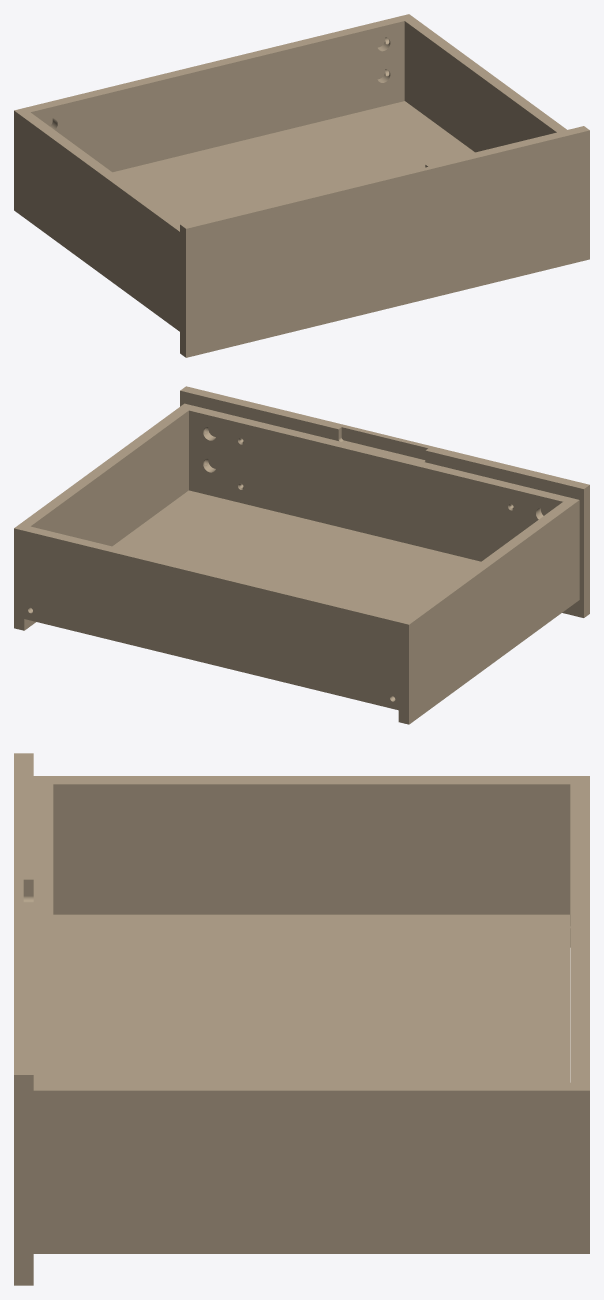
The model's file is assembled.glb.
3 renders of one model, top to bottom at view 1: azimuth 30°, elevation 25°; view 2: azimuth 150°, elevation 25°; view 3: azimuth 270°, elevation 25°, orthographic. The views are drawn at different scales.
Parts seen in each view (by area): view 1: face, rear, bottom, left, right; view 2: rear, front, bottom, left, right, face; view 3: right, bottom, left, face, front, rear.
Boxes of the visible parts, x1,y1,x2,y2 form: face: [180, 126, 589, 357]; rear: [25, 16, 404, 172]; bottom: [113, 101, 474, 223]; left: [14, 108, 182, 331]; right: [399, 14, 566, 152]; rear: [24, 526, 404, 710]; front: [189, 406, 568, 561]; bottom: [112, 490, 480, 617]; left: [398, 497, 579, 724]; right: [14, 403, 194, 630]; face: [180, 386, 589, 617]; right: [33, 1082, 589, 1253]; bottom: [53, 914, 569, 1082]; left: [33, 776, 589, 947]; face: [14, 753, 33, 1285]; front: [33, 784, 53, 1082]; rear: [570, 784, 589, 1082].
Size of the model in its own units: 0.465 by 0.142 by 0.352.
